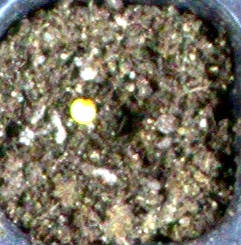pepper seed: (21, 35, 118, 160)
